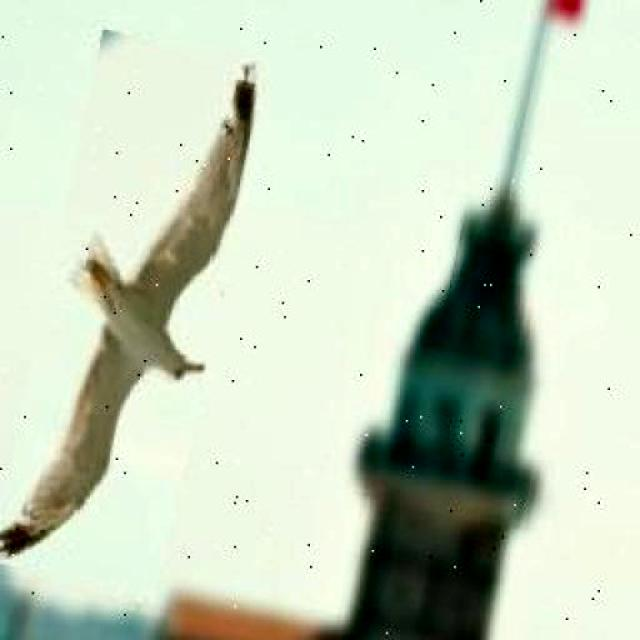airplane: (0, 29, 268, 595)
